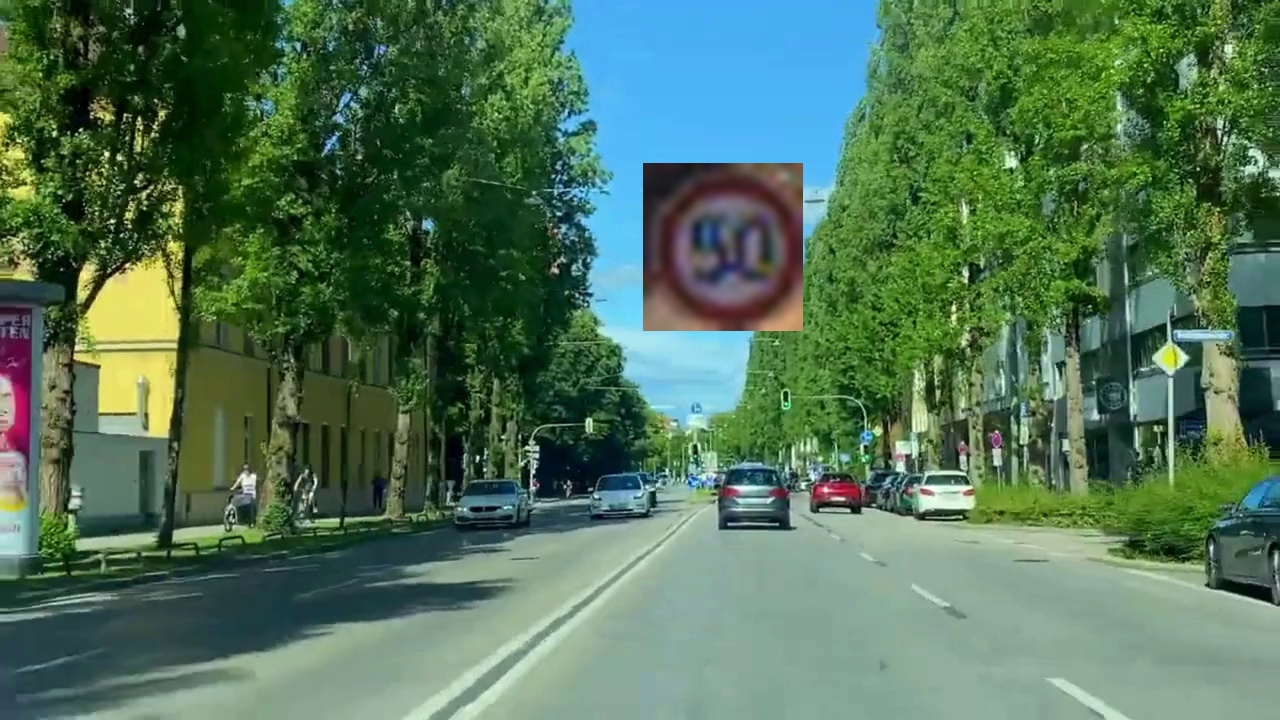Speed 50: (643, 163, 803, 331)
